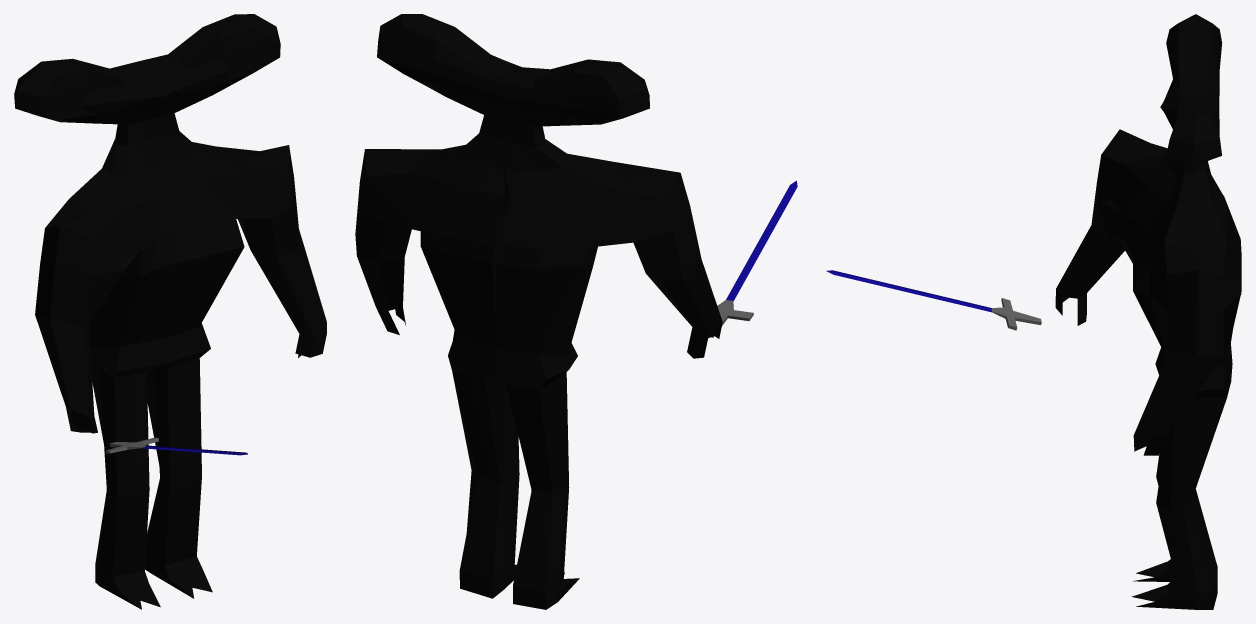
File: SwordsMana3.obj
3 views of the same model, side by side, from view 1: azimuth 30°, elevation 25°; view 2: azimuth 150°, elevation 25°; view 3: azimuth 270°, elevation 25° (orthographic). The views are drawn at different scales.
Visible parts, largest first — view 1: Cube, Plane; view 2: Cube, Plane; view 3: Cube, Plane.
Part boxes in pixels (left/top/right/bottom): Cube: left=14, top=14, right=326, bottom=609; Plane: left=106, top=437, right=247, bottom=455; Cube: left=355, top=14, right=722, bottom=609; Plane: left=711, top=180, right=797, bottom=337; Cube: left=1055, top=14, right=1241, bottom=609; Plane: left=826, top=270, right=1041, bottom=330.
Size of the model in its own units: 10.81 by 18.67 by 13.4.
